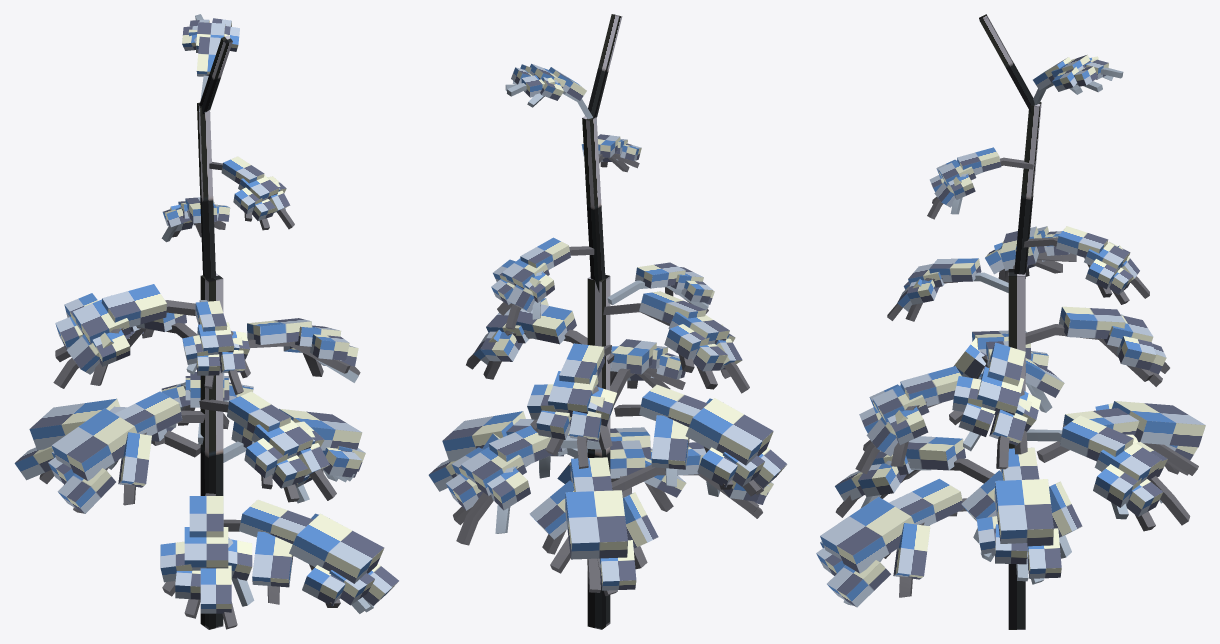
The model's file is pine.fbx.
3 views of the same model, side by side, from view 1: azimuth 30°, elevation 25°; view 2: azimuth 150°, elevation 25°; view 3: azimuth 270°, elevation 25° (orthographic).
Parts seen in each view (by area): view 1: pine; view 2: pine; view 3: pine.
Part boxes in pixels (<box>): pine: <box>14,14,398,629</box>; pine: <box>428,14,787,629</box>; pine: <box>816,14,1205,629</box>.
Size of the model in its own units: 5.13 by 9.31 by 5.39.
